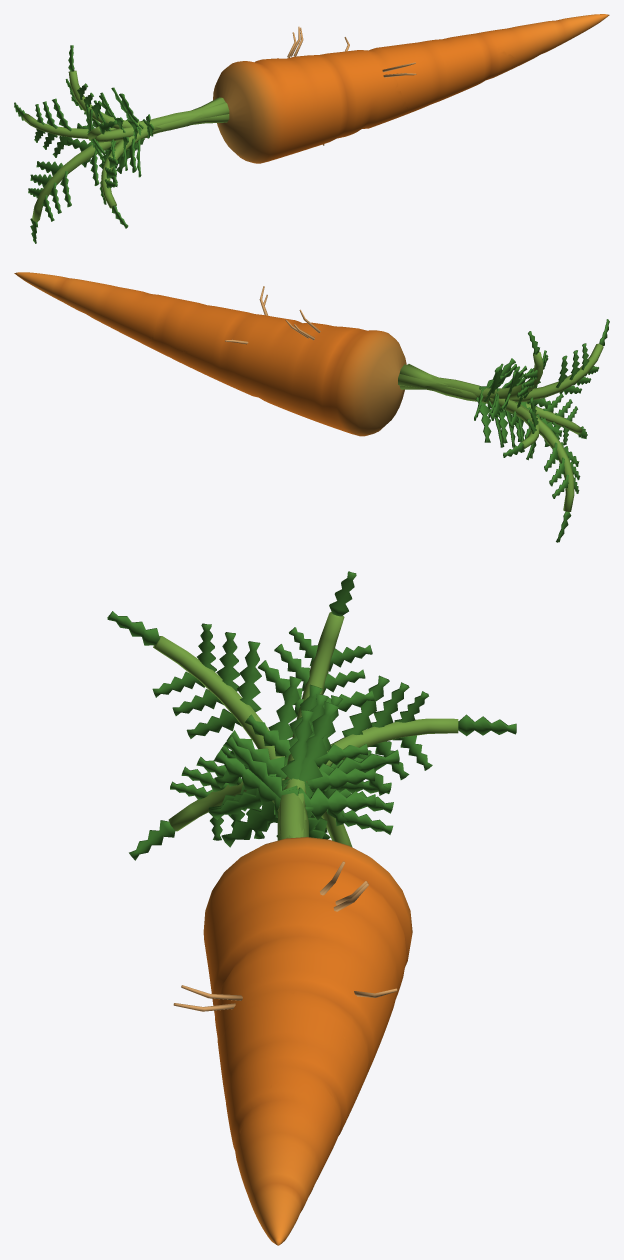
The model's file is carrot_held.glb.
3 renders of one model, top to bottom at view 1: azimuth 30°, elevation 25°; view 2: azimuth 150°, elevation 25°; view 3: azimuth 270°, elevation 25°, orthographic. The views are drawn at different scales.
Parts seen in each view (by area): view 1: eat_0_Body, eat_1_Body, eat_0_Fronds, eat_0_Stalks, eat_0_Hairs; view 2: eat_0_Body, eat_0_Fronds, eat_0_Stalks, eat_1_Body, eat_2_Body, eat_0_Hairs; view 3: eat_0_Body, eat_0_Fronds, eat_1_Body, eat_0_Stalks, eat_0_Hairs.
Part boxes in pixels (left/top/right/bottom): eat_0_Body: left=213, top=14, right=609, bottom=163; eat_1_Body: left=218, top=38, right=514, bottom=162; eat_0_Fronds: left=14, top=45, right=154, bottom=243; eat_0_Stalks: left=22, top=70, right=229, bottom=221; eat_0_Hairs: left=287, top=26, right=416, bottom=145; eat_0_Body: left=14, top=272, right=406, bottom=436; eat_0_Fronds: left=474, top=319, right=609, bottom=542; eat_0_Stalks: left=398, top=343, right=603, bottom=511; eat_1_Body: left=148, top=297, right=406, bottom=433; eat_2_Body: left=182, top=314, right=347, bottom=428; eat_0_Hairs: left=225, top=286, right=320, bottom=344; eat_0_Body: left=203, top=837, right=412, bottom=1245; eat_0_Fronds: left=107, top=571, right=516, bottom=860; eat_1_Body: left=204, top=837, right=412, bottom=1160; eat_0_Stalks: left=153, top=612, right=458, bottom=847; eat_0_Hairs: left=173, top=861, right=397, bottom=1011.
Size of the model in its own units: 0.2546 by 0.0844 by 0.0807.
